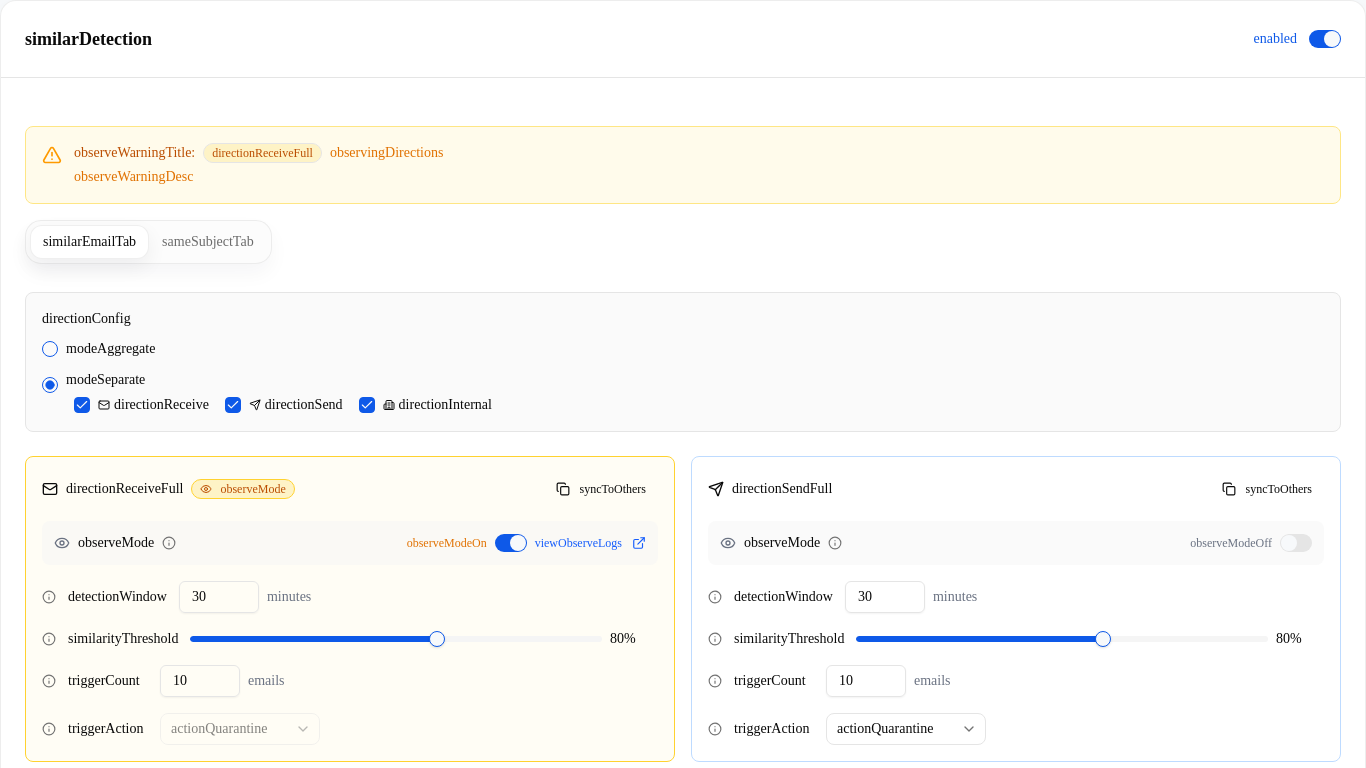
SimilarDetectionPage › 全部取消勾选方向：显示空态提示 atLeastOneDirection，卡片区消失
The width and height of the screenshot is (1366, 768).
Click the checkbox with test id "similar-detection-dir-receive".
click(82, 405)  # box [74,397,90,413]
(page scrolled)
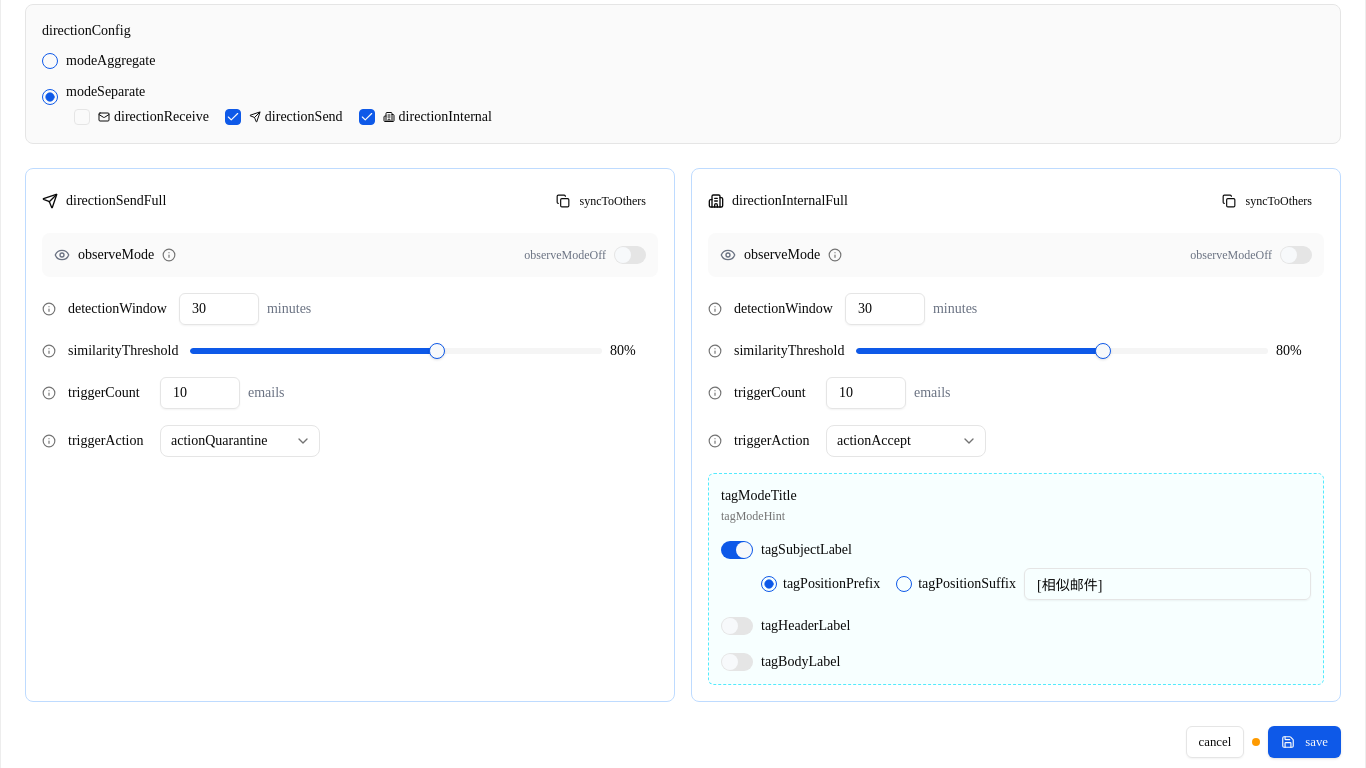
Click the checkbox with test id "similar-detection-dir-send".
click(233, 117)  # box [225,109,241,125]
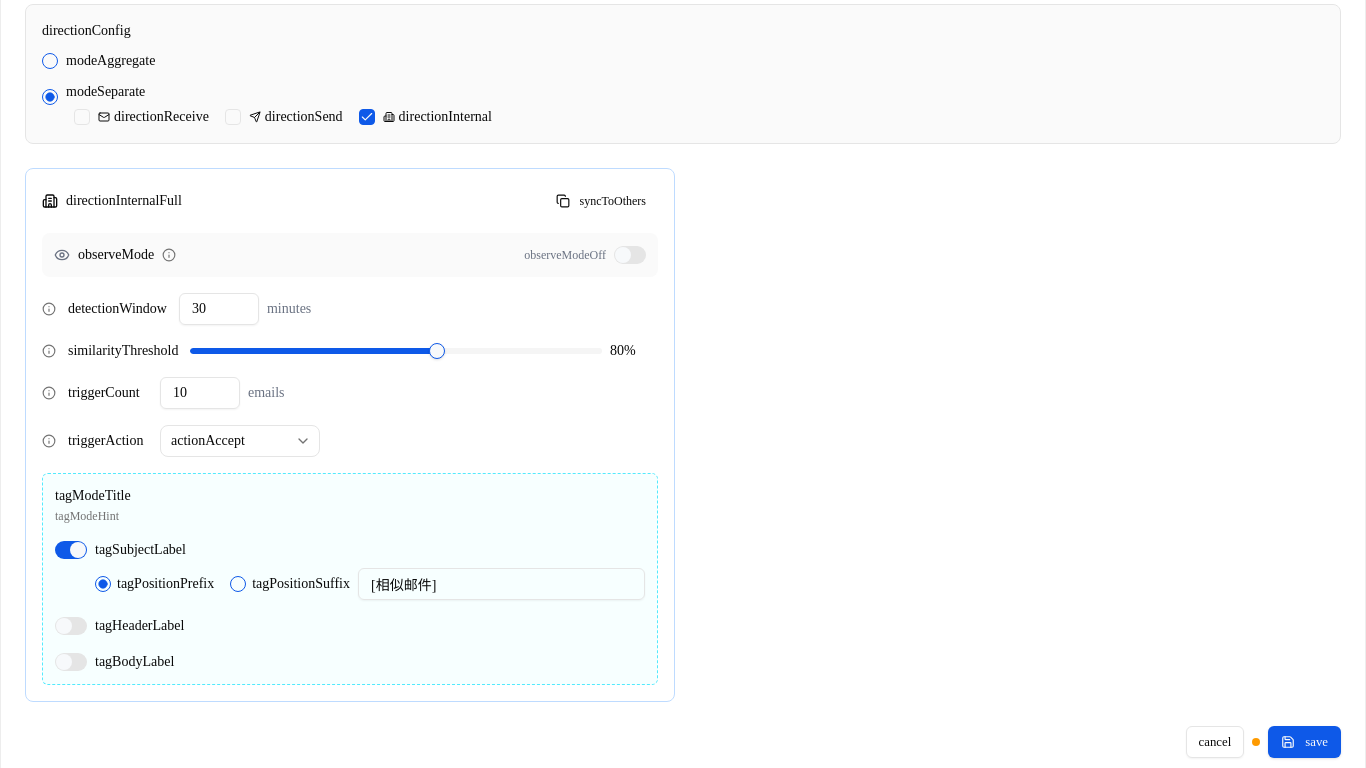
Click the checkbox with test id "similar-detection-dir-internal".
click(367, 117)  # box [359,109,375,125]
(page scrolled)
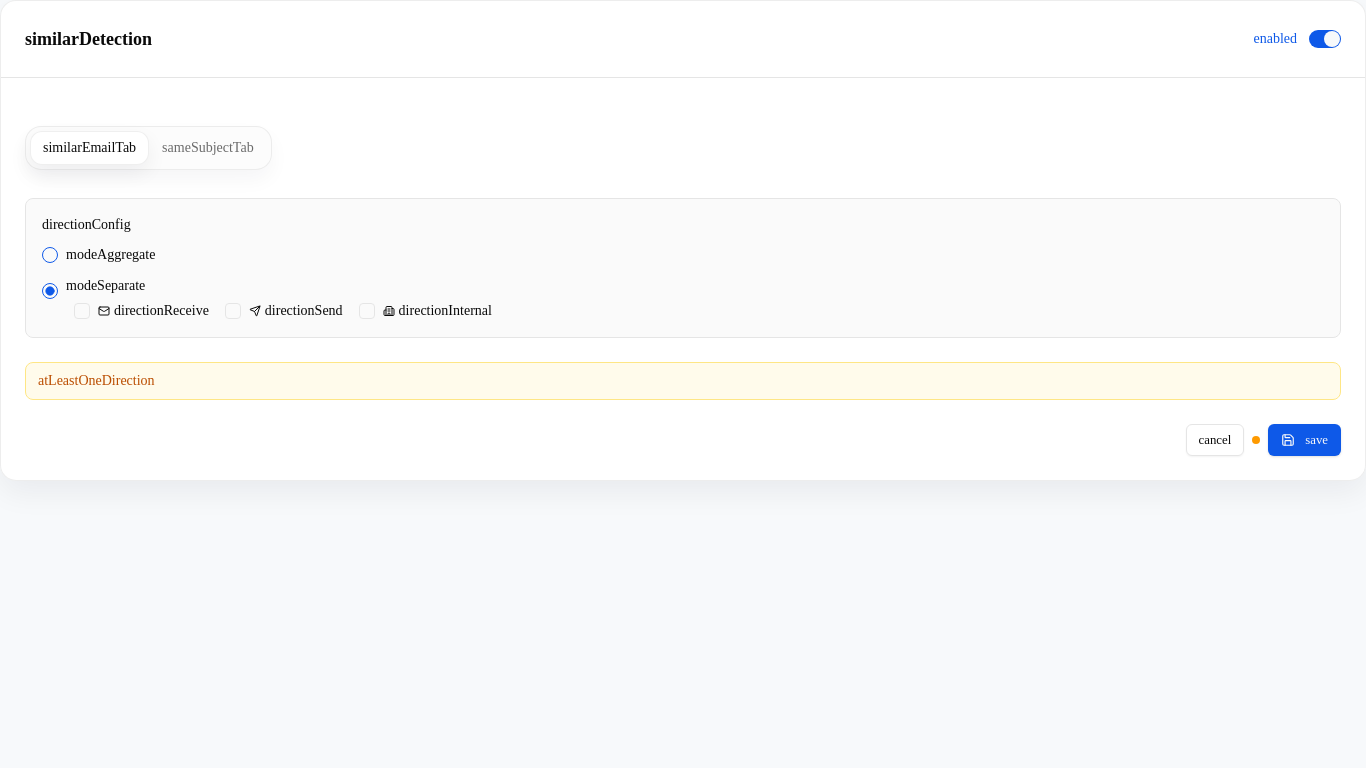
Expected: the text with test id "similar-detection-empty-hint" reads "atLeastOneDirection", [38,373,155,388]
